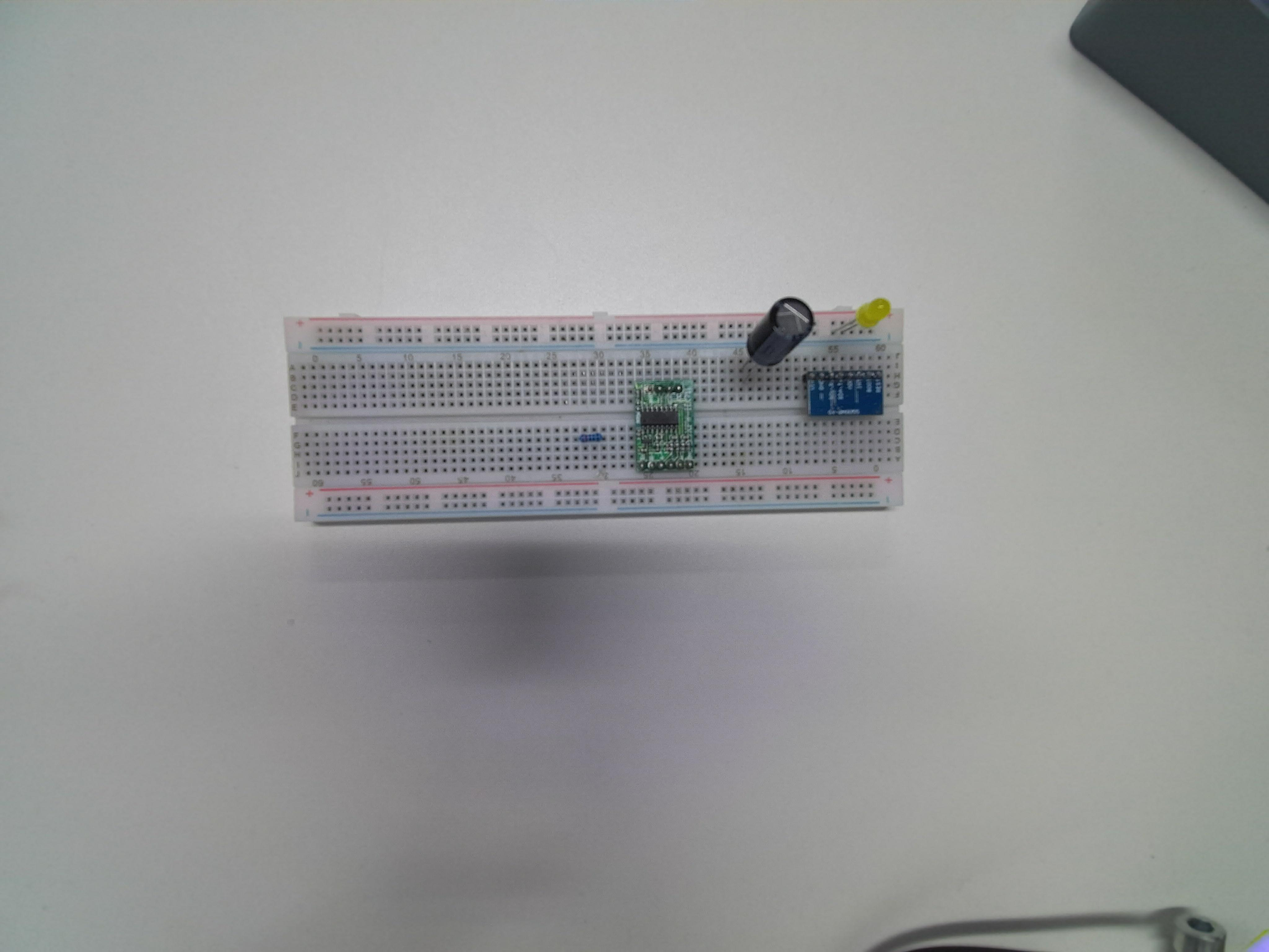base: (282, 306, 905, 528)
blue-board: (806, 368, 885, 419)
capacitor: (745, 293, 817, 371)
green-board: (632, 377, 699, 472)
resistor-small: (576, 430, 604, 444)
yellow-led: (856, 298, 892, 330)
